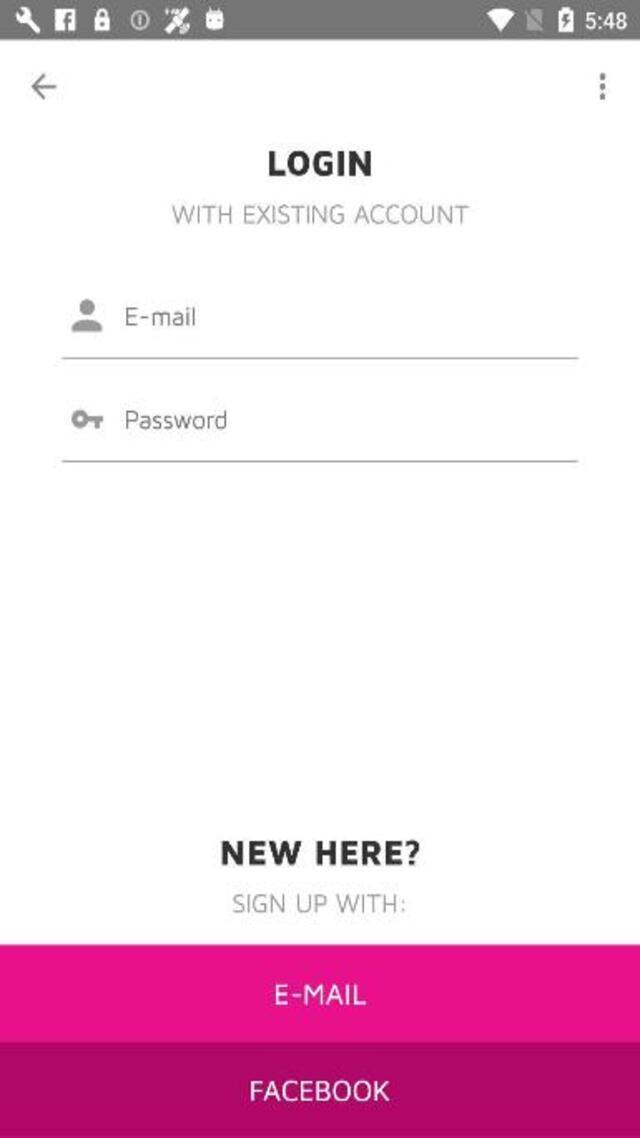Icon: (72, 298, 102, 330), (30, 74, 56, 100), (600, 73, 607, 101)
Image: (70, 410, 102, 429)
Text: (172, 205, 470, 225), (222, 838, 420, 865), (246, 1076, 394, 1106), (232, 893, 406, 914), (268, 978, 369, 1012), (268, 151, 370, 176), (126, 410, 227, 429), (126, 306, 196, 327)
TextButton: (0, 1042, 638, 1138), (0, 944, 638, 1040)
